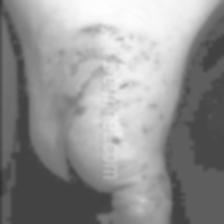Unclassified: (125, 32, 159, 224), (55, 44, 97, 130), (81, 20, 121, 40)
